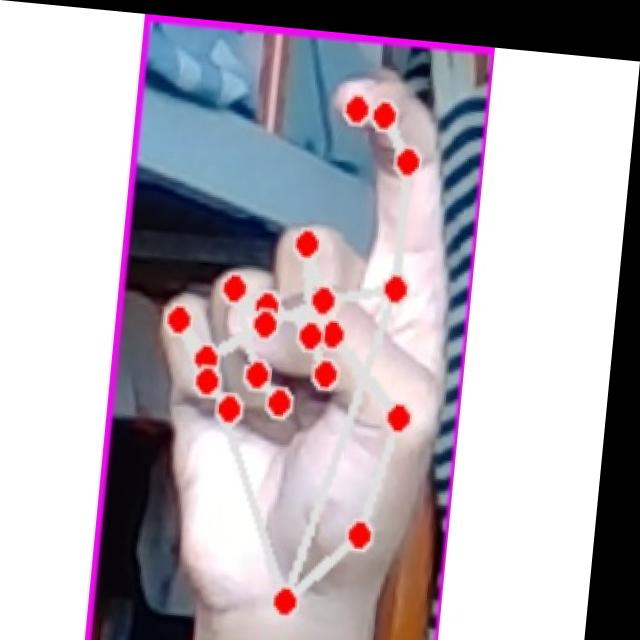X: (133, 36, 477, 639)
